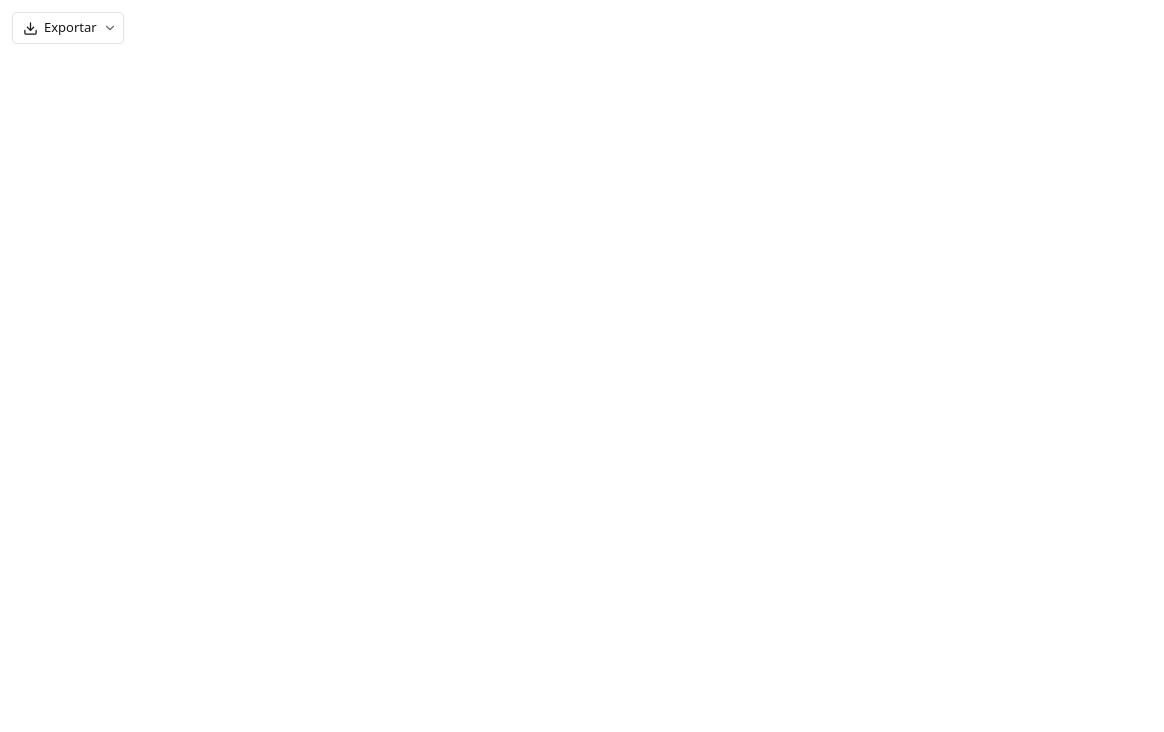
it: menú Exportar (D11) › con cambios sin compilar, pide compilar primero
Click the button "Exportar" at {"x": 68, "y": 28}, box [12, 12, 124, 44]
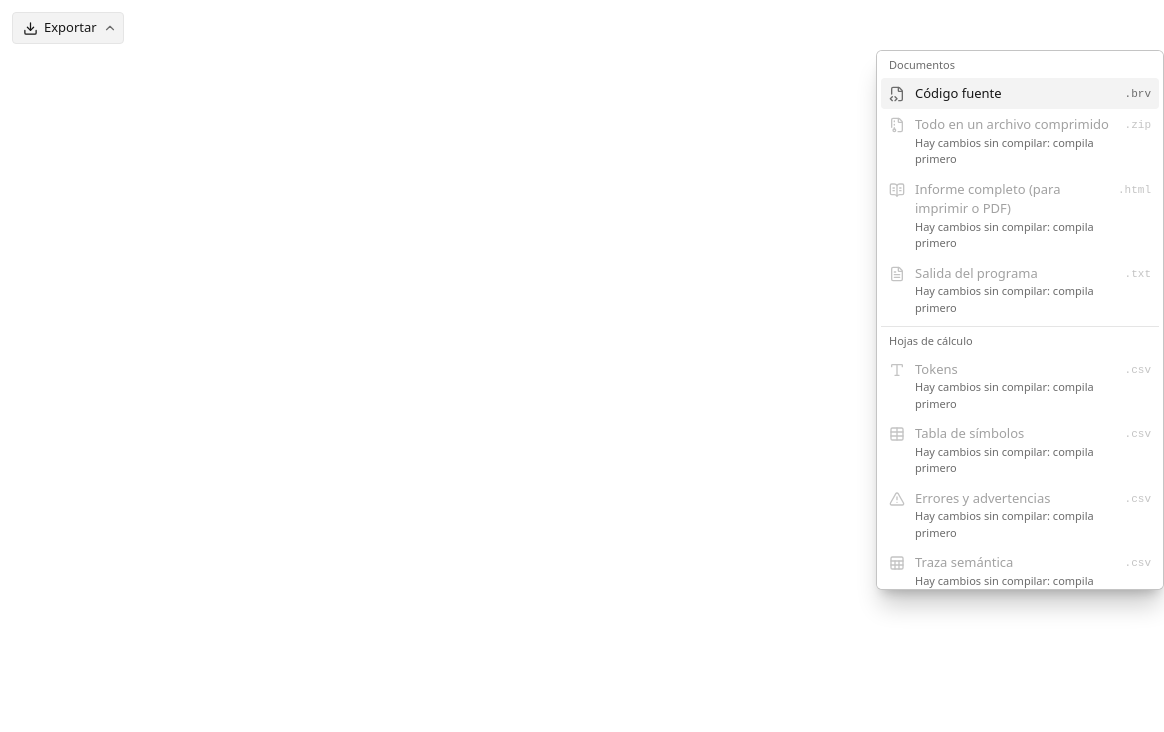
Expected: the menu item "Hay cambios sin compilar: compila primero" is shown, [881, 418, 1159, 482]
